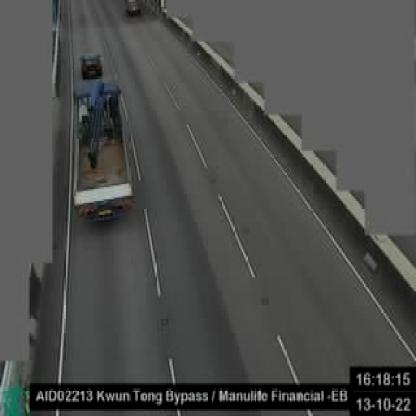Car: (80, 53, 102, 79), (125, 0, 143, 17)
Truck: (71, 79, 137, 219)
